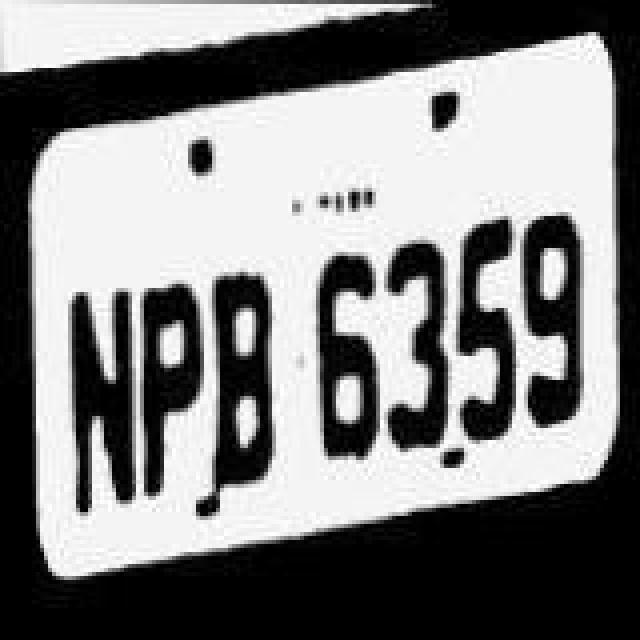3: (384, 230, 452, 454)
5: (454, 186, 518, 442)
6: (308, 244, 384, 480)
9: (520, 176, 588, 456)
B: (210, 252, 282, 504)
N: (66, 234, 138, 550)
P: (136, 240, 204, 512)
